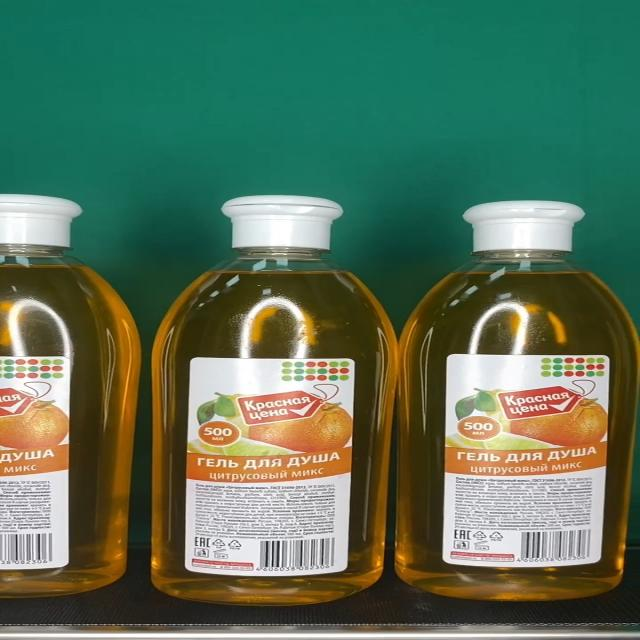Bottle: (150, 195, 400, 606), (399, 199, 640, 599)
Cap: (222, 196, 345, 249), (461, 200, 586, 252)
